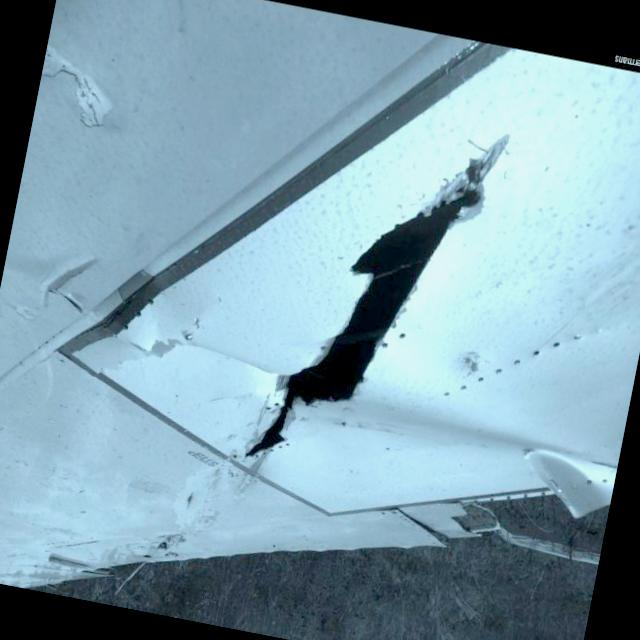crack: (241, 98, 508, 500), (183, 490, 197, 512)
